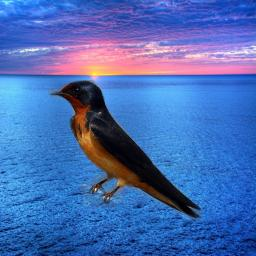Swallow: (48, 80, 202, 222)
